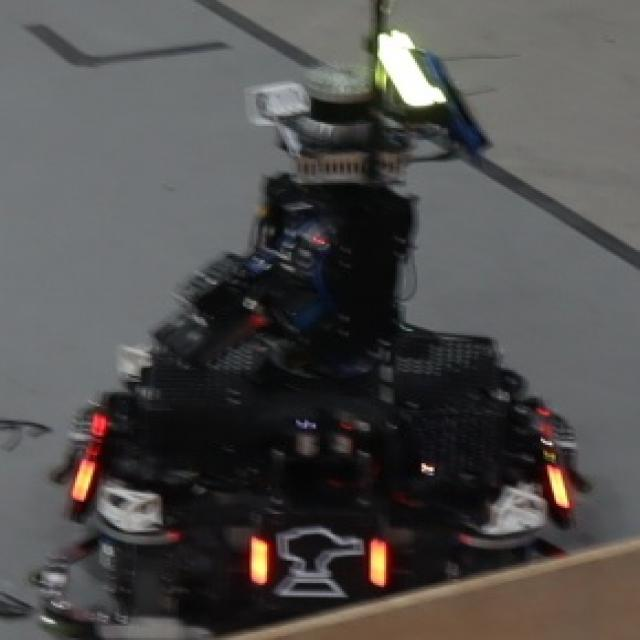Rs: (247, 518, 391, 608)
